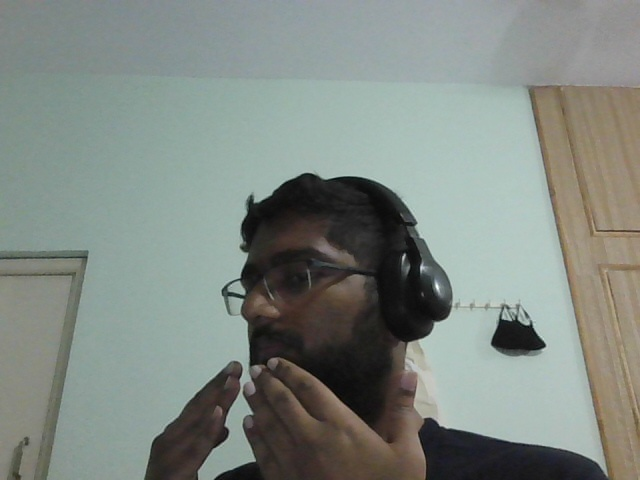Thank You: (126, 359, 477, 480)
